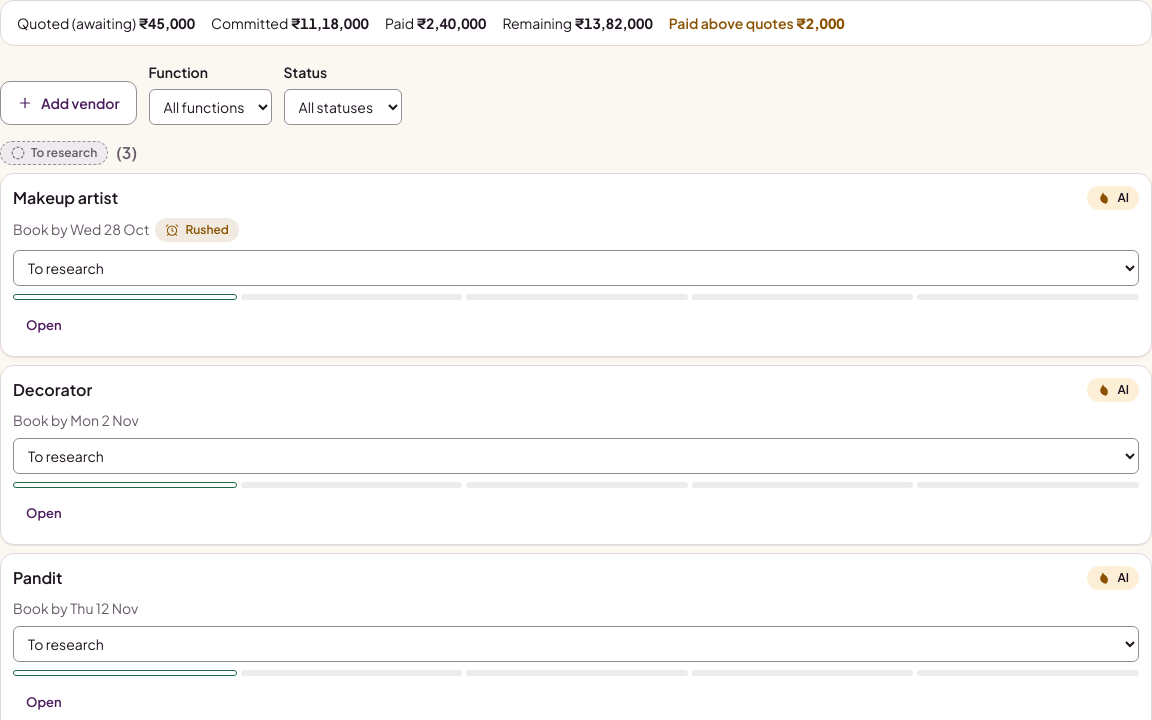
Vendors tab › adding a vendor that fails shows the fallback message
Click the button "Add vendor": x=68, y=103 top-left (0, 81), bottom-right (137, 125)
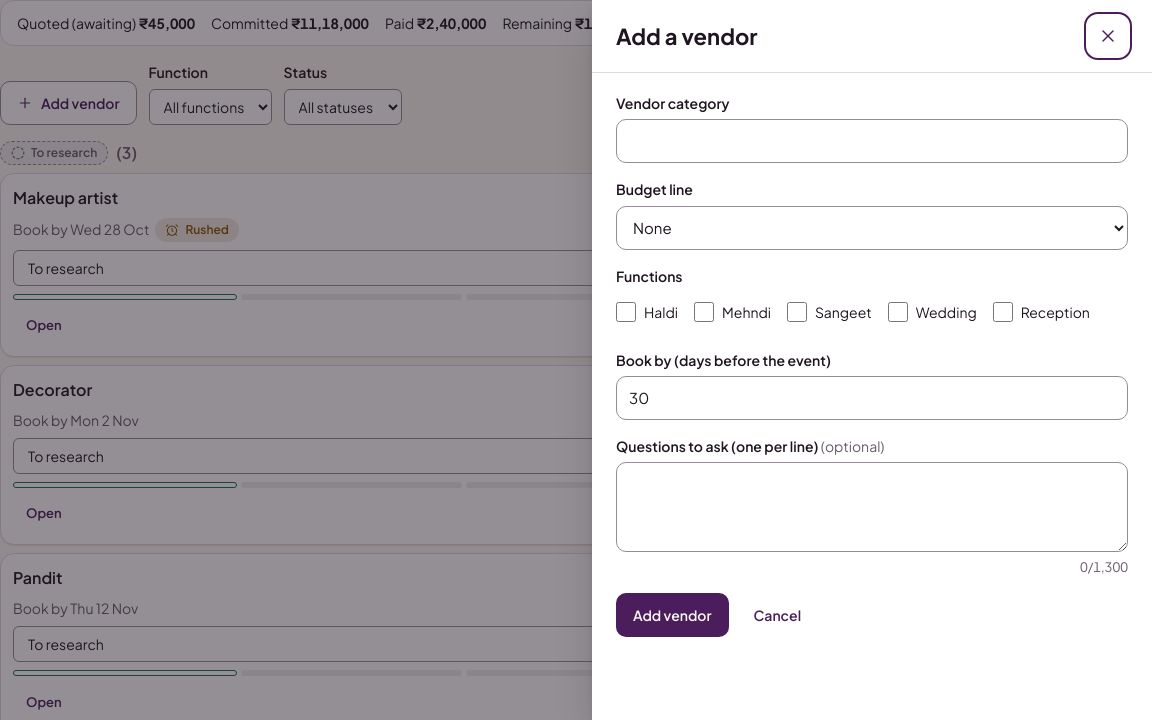
In the field labelled "Vendor category": x=872, y=141 top-left (616, 119), bottom-right (1128, 163), type "Photo booth"
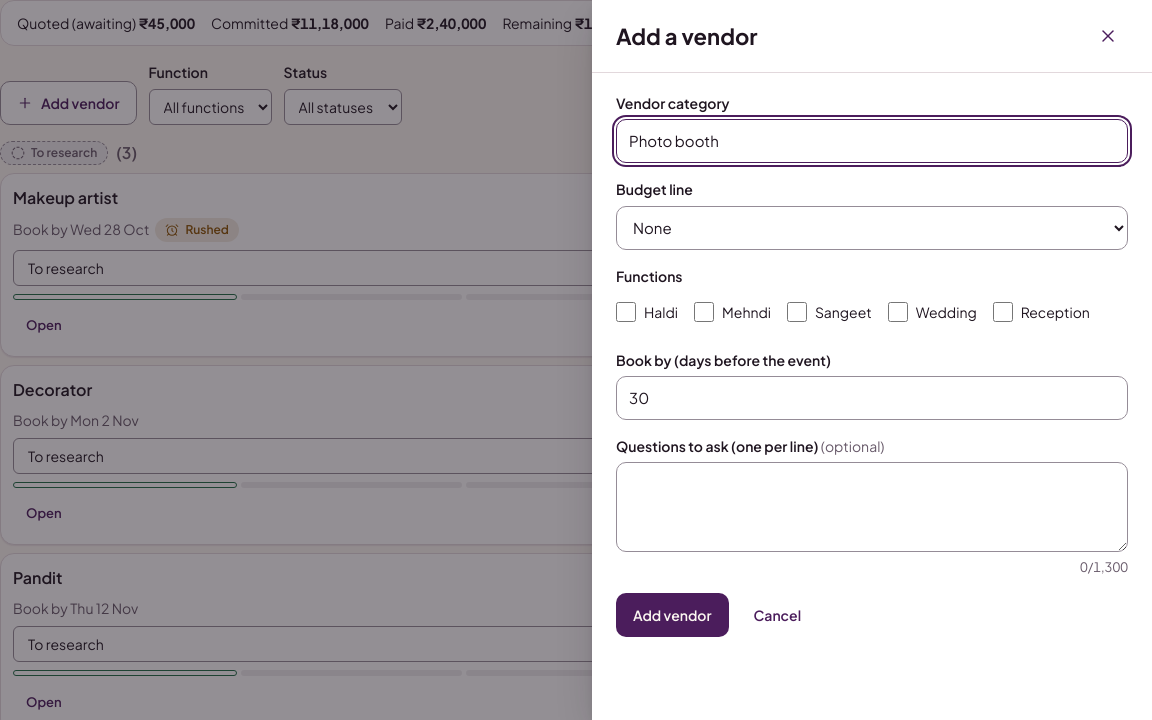
Click the button "Add vendor": x=672, y=615 top-left (616, 593), bottom-right (729, 637)
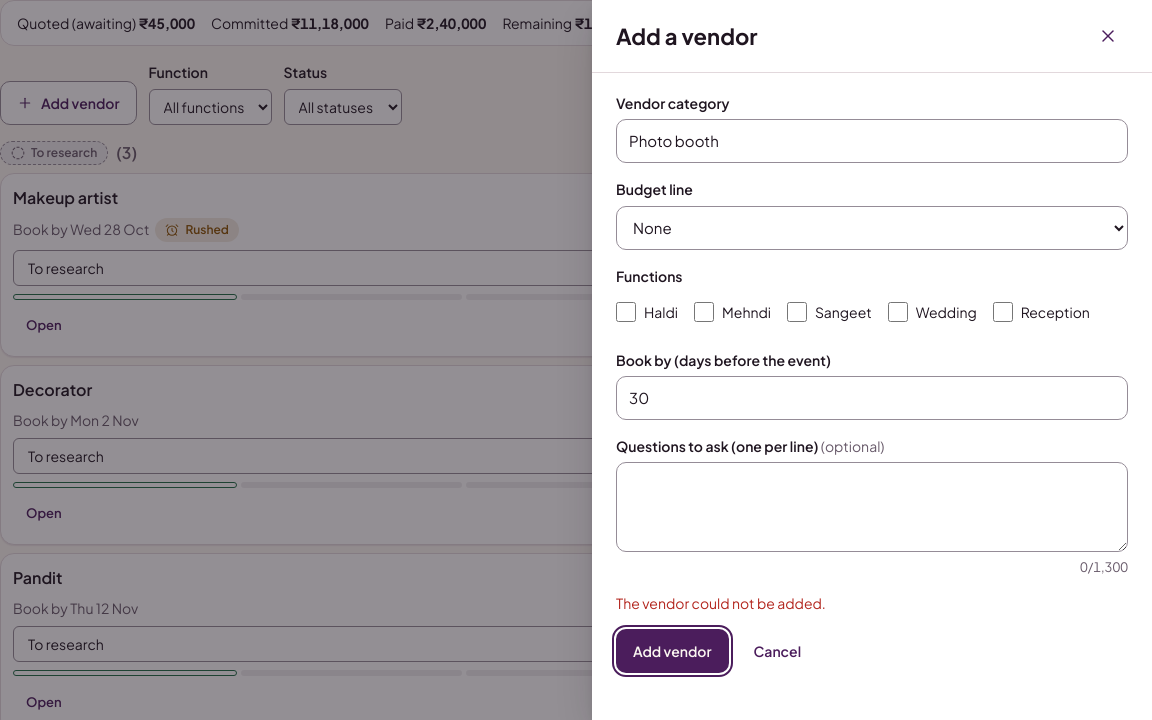
Result: the text "The vendor could not be added." is shown at top-left (616, 594), bottom-right (826, 612)
